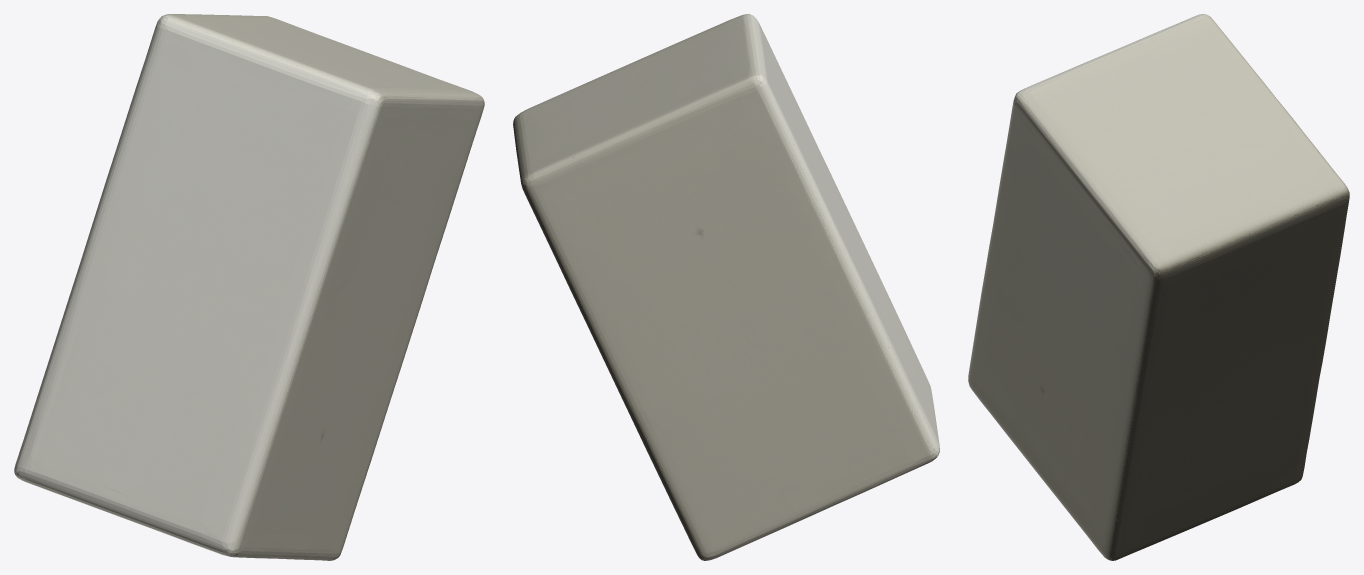
File: cream_posed_fused.glb
3 renders of one model, left to right at view 1: azimuth 30°, elevation 25°; view 2: azimuth 150°, elevation 25°; view 3: azimuth 270°, elevation 25°, orthographic. The views are drawn at different scales.
Visible parts, largest first — view 1: world; view 2: world; view 3: world.
Boxes of the visible parts, left/top/right/bottom form: world: left=14, top=14, right=484, bottom=560; world: left=513, top=14, right=939, bottom=560; world: left=968, top=14, right=1349, bottom=560.
Bounding box in the file's own units: 0.0636 × 0.0693 × 0.0486.
Materials: 1 (1 with a texture image).
